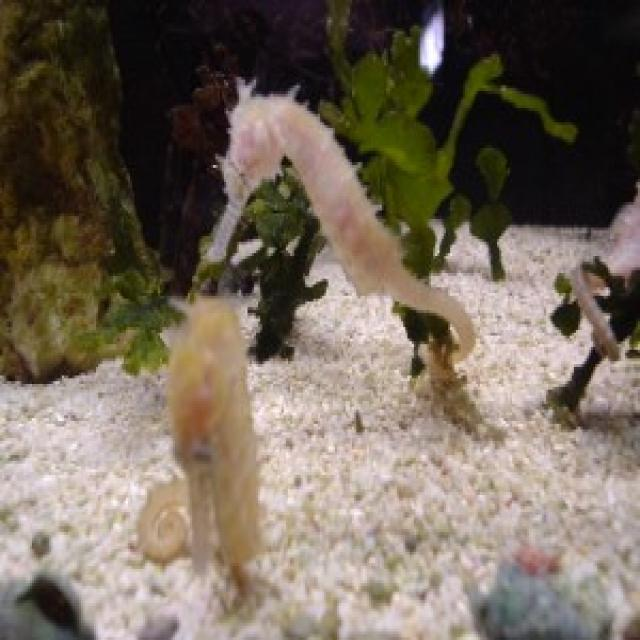Seahorse: (208, 75, 477, 352), (136, 301, 268, 567)
